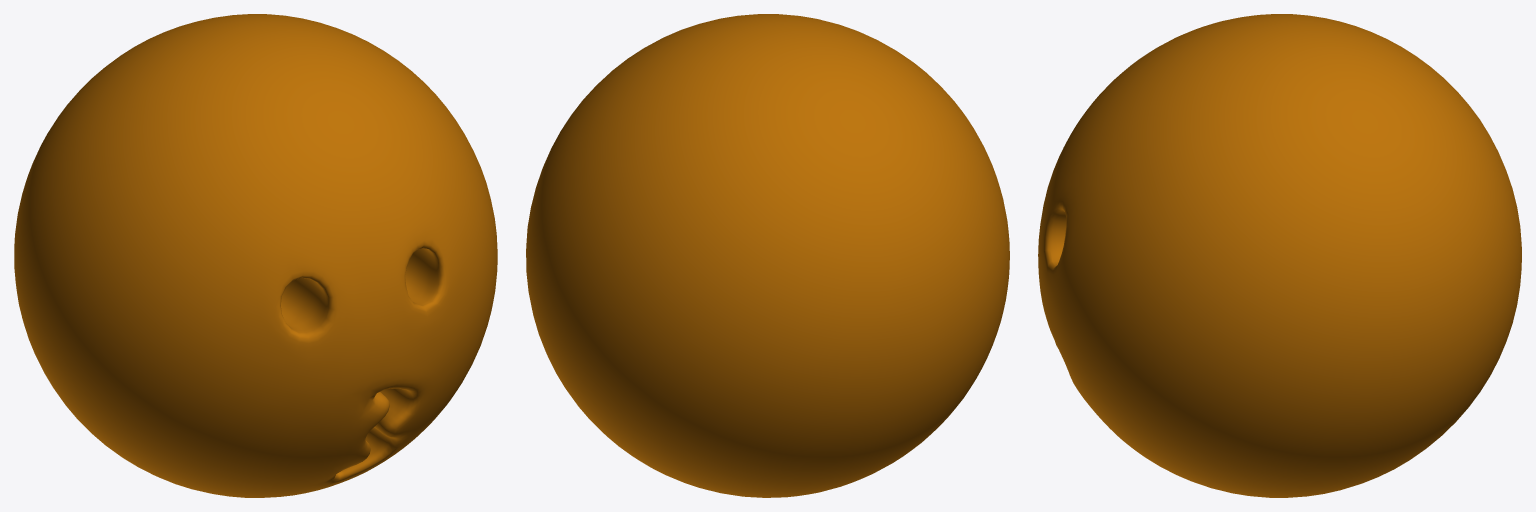
File: kissing face FBX.FBX
3 views of the same model, side by side, from view 1: azimuth 30°, elevation 25°; view 2: azimuth 150°, elevation 25°; view 3: azimuth 270°, elevation 25° (orthographic).
Parts seen in each view (by area): view 1: Group28290; view 2: Group28290; view 3: Group28290.
Boxes of the visible parts, left/top/right/bottom form: Group28290: left=14, top=14, right=497, bottom=497; Group28290: left=526, top=14, right=1009, bottom=497; Group28290: left=1038, top=14, right=1521, bottom=497.
Bounding box in the file's own units: 22.08 × 22.11 × 22.09.
